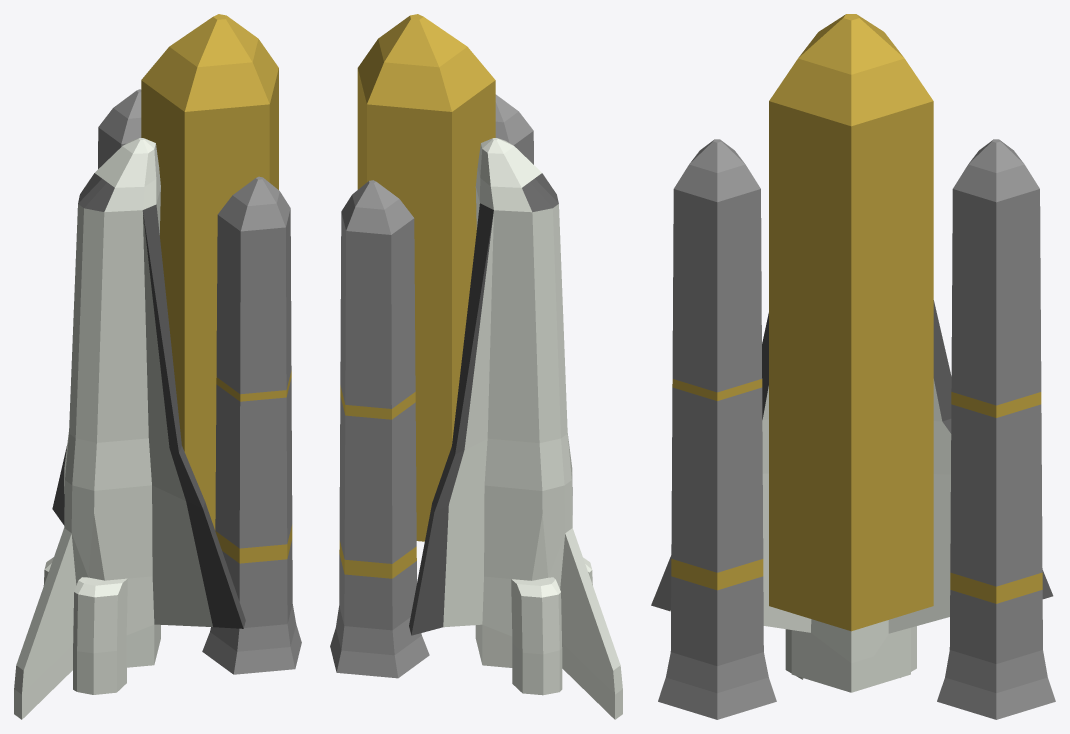
File: space_shuttle_variation_model.fbx
3 views of the same model, side by side, from view 1: azimuth 30°, elevation 25°; view 2: azimuth 150°, elevation 25°; view 3: azimuth 270°, elevation 25° (orthographic). The views are drawn at different scales.
Parts seen in each view (by area): view 1: space_shuttle_variation; view 2: space_shuttle_variation; view 3: space_shuttle_variation.
Boxes of the visible parts, left/top/right/bottom form: space_shuttle_variation: left=14, top=14, right=301, bottom=719; space_shuttle_variation: left=330, top=14, right=622, bottom=719; space_shuttle_variation: left=651, top=14, right=1055, bottom=719.
Bounding box in the file's own units: 6.61 × 15.75 × 7.6.
1 material, 1 textured.
